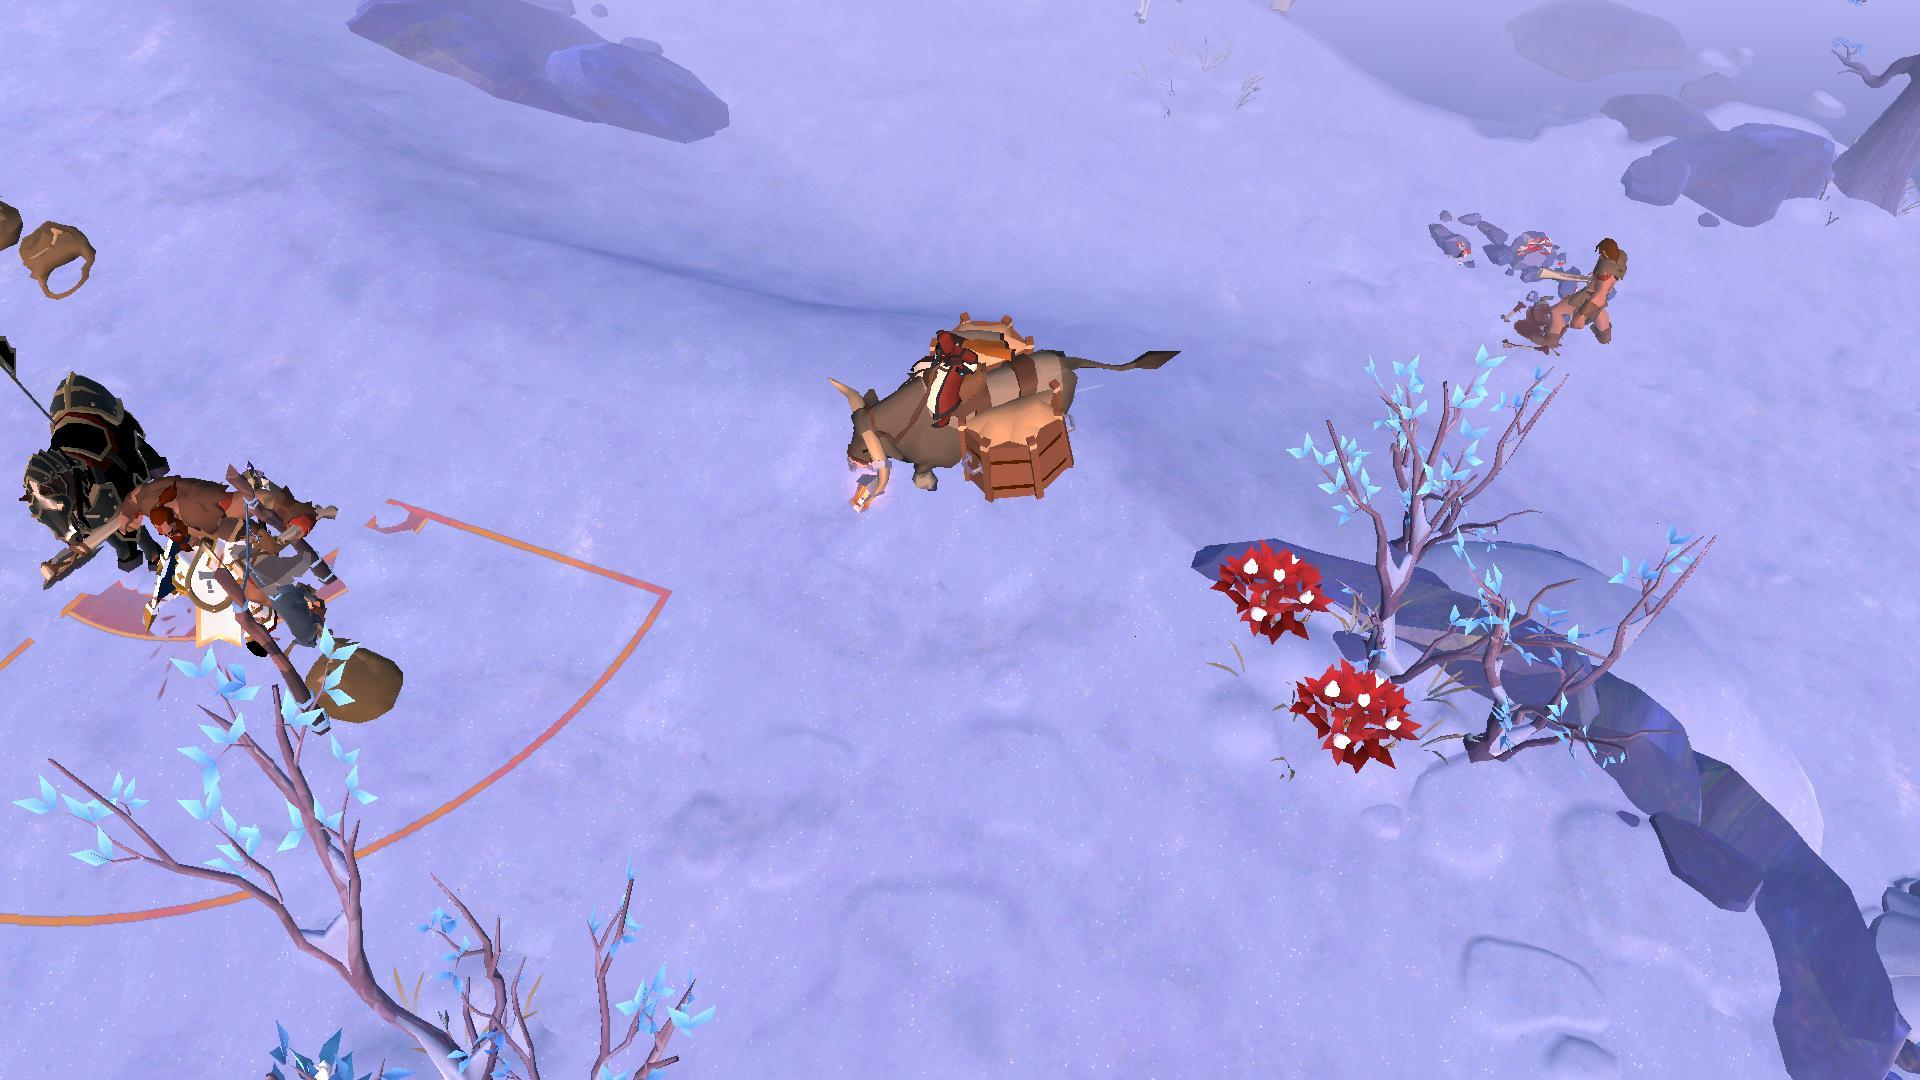enemy_factionKeeper: (1551, 232, 1640, 343)
fiber_t5: (1282, 661, 1423, 778), (1192, 537, 1332, 642)
